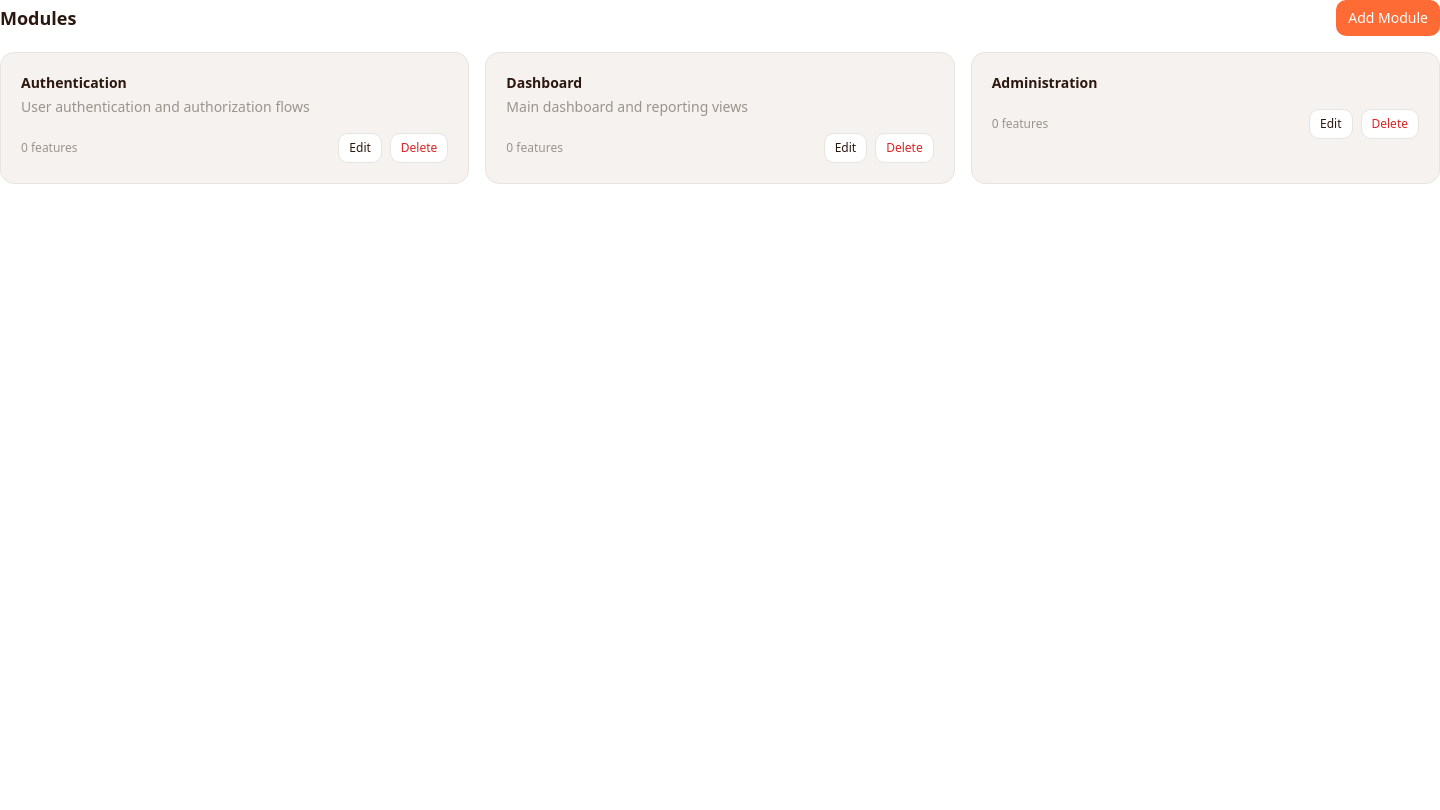
AppModules › opens add dialog when Add Module clicked
What coordinates should you click on to do the following:
click the button "Add Module"
I would click on:
 (1388, 18)
Its box is x1=1336 y1=0 x2=1439 y2=36.
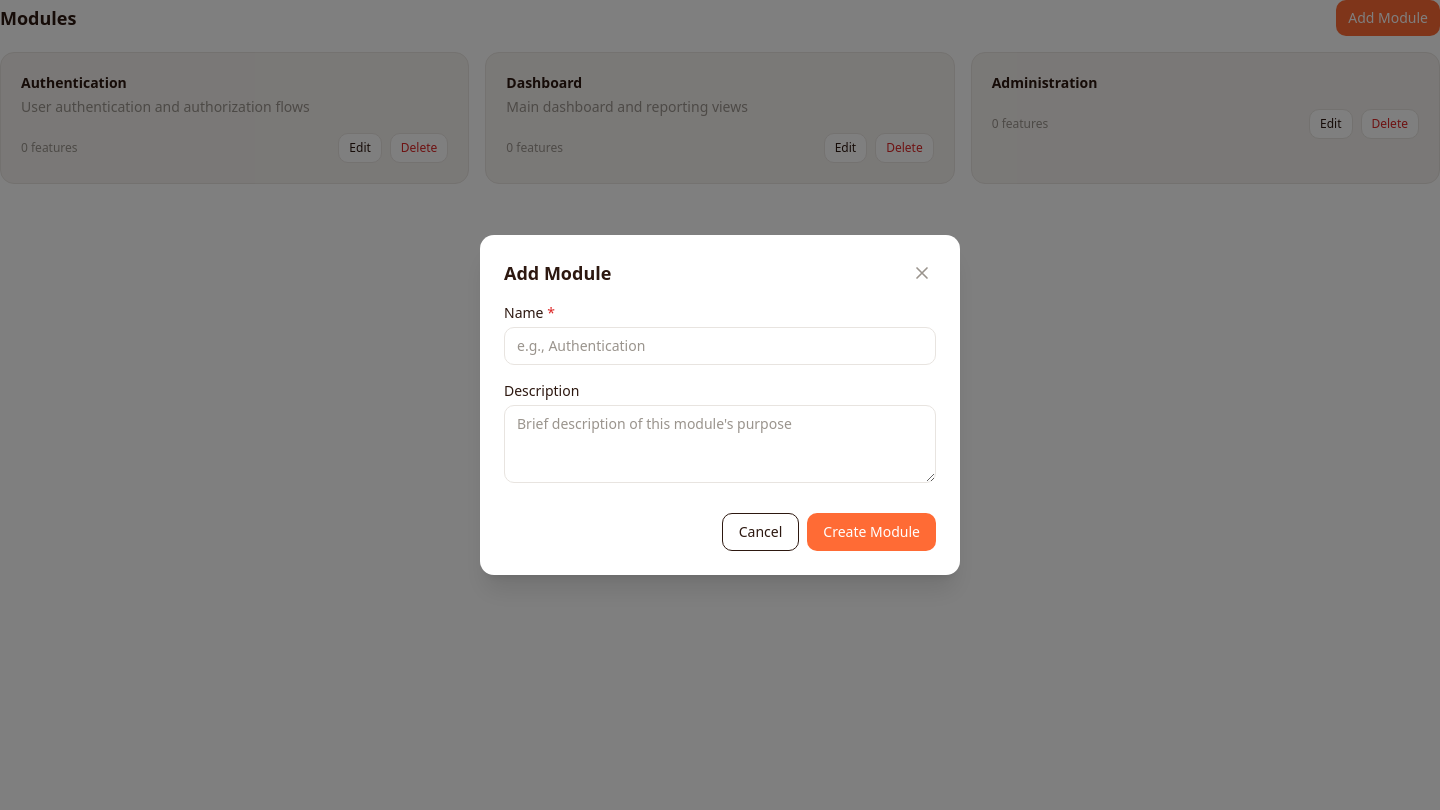
Expected: the heading "Add Module" is shown, x1=504 y1=259 x2=611 y2=287
